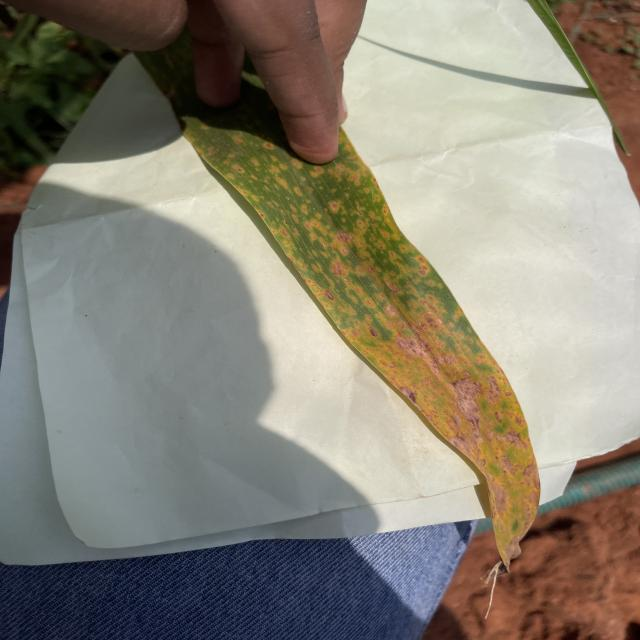millet_rust: (133, 0, 538, 572)
